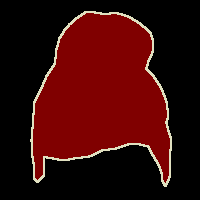hat: (31, 12, 171, 186)
